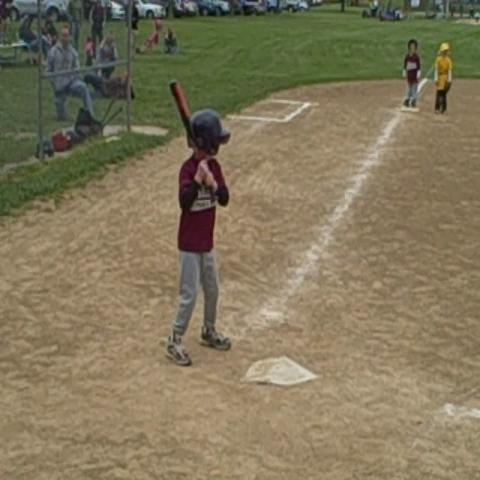car: (3, 0, 73, 23), (154, 0, 196, 18), (134, 0, 167, 21), (196, 0, 231, 18), (282, 0, 311, 17), (262, 0, 284, 15), (244, 0, 265, 15), (232, 1, 253, 16), (110, 2, 126, 19)
